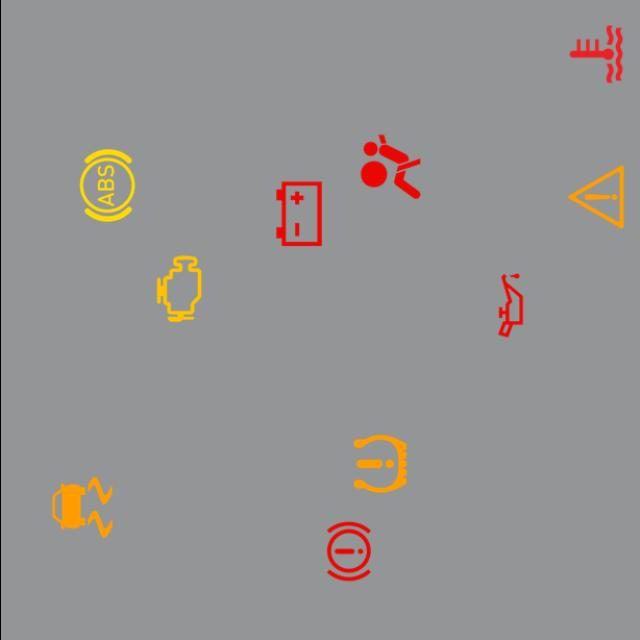Anti Lock Braking System: (67, 146, 146, 225)
Braking System Issue: (308, 512, 388, 591)
Charging System Issue: (258, 174, 338, 253)
Check Engine: (138, 249, 218, 328)
Electronic Stability Problem -ESP-: (42, 468, 121, 547)
Engine Overheating Warning Light: (556, 15, 634, 94)
Low Engine Oil Warning Light: (470, 266, 549, 345)
Low Tire Pressure Warning Light: (340, 424, 419, 504)
Master warning light: (556, 158, 634, 236)
SRS-Airbag: (350, 128, 430, 206)
